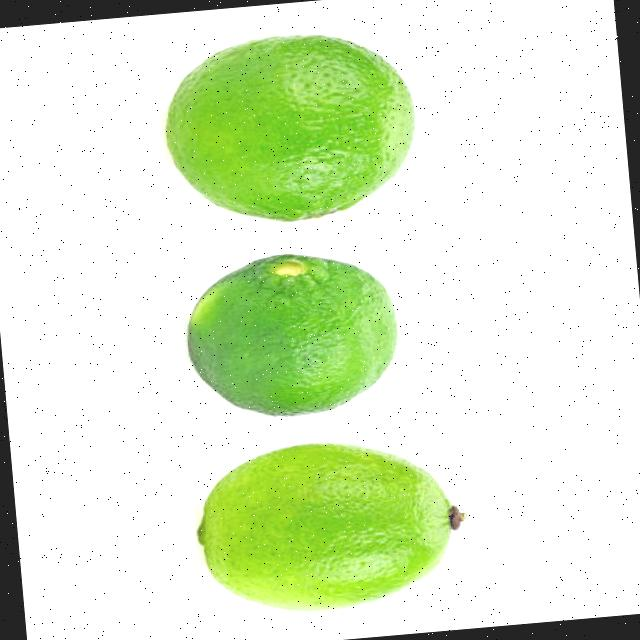Unripe: (156, 23, 424, 230), (190, 428, 473, 623), (176, 242, 411, 427)
